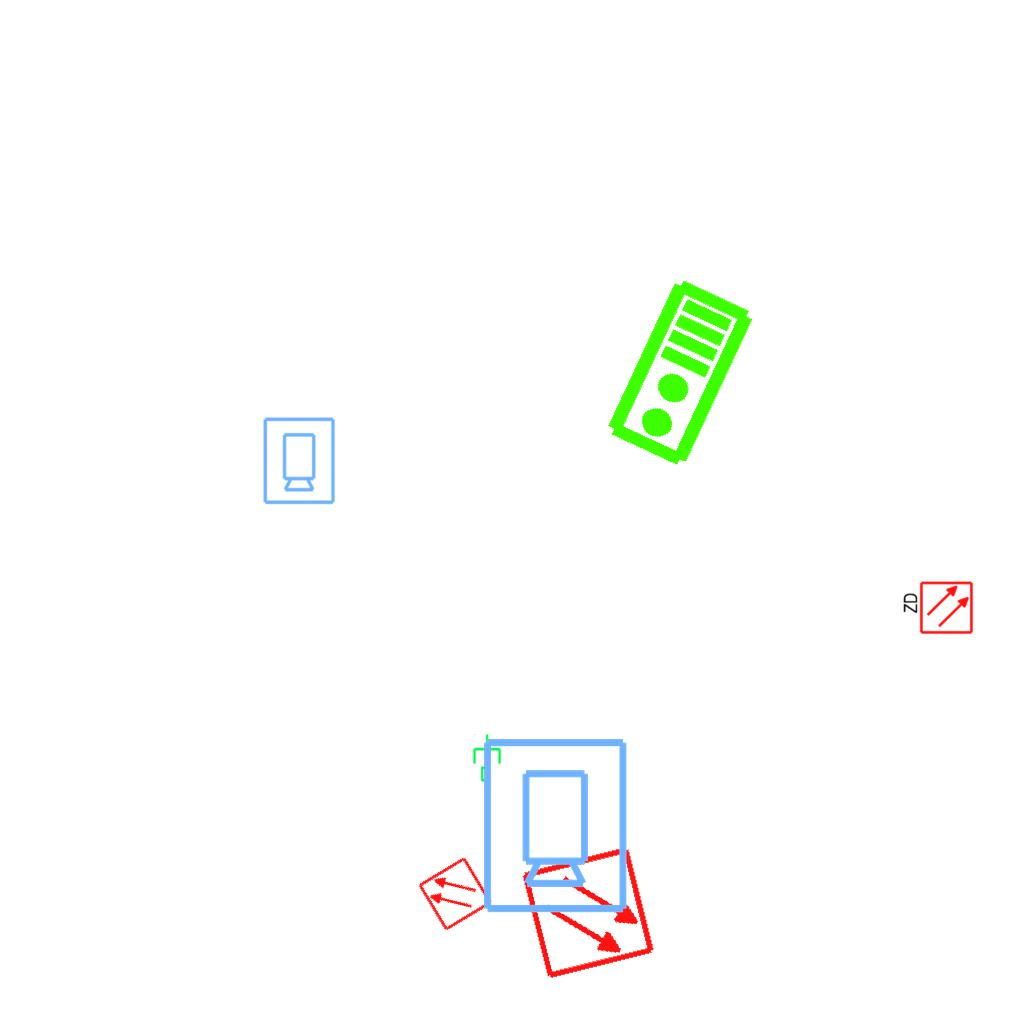Datenanschluss_einfach: (471, 733, 505, 783)
Gegensprechanlage_mit_Video: (601, 274, 762, 474)
KFO_Kamera_mit_Festobjektiv: (477, 734, 631, 916), (260, 415, 337, 506)
RMO_Rauchmelder_optischer: (520, 844, 657, 981), (416, 855, 494, 933)
ZD_Melder_in_Zwischendecke_mit_Revisionsoeffnung_mind_40_x_40_cm: (900, 580, 974, 637)
